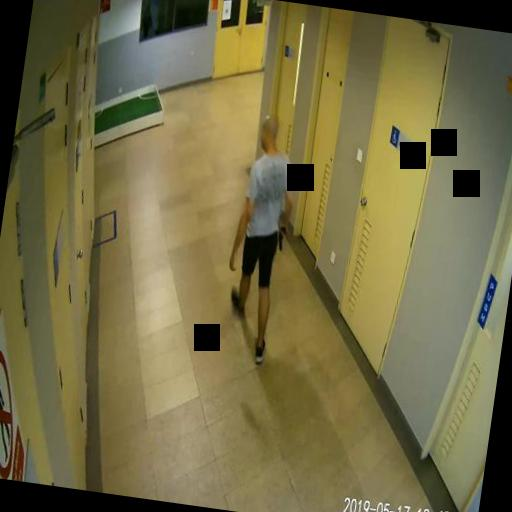Handgun: (273, 220, 291, 252)
